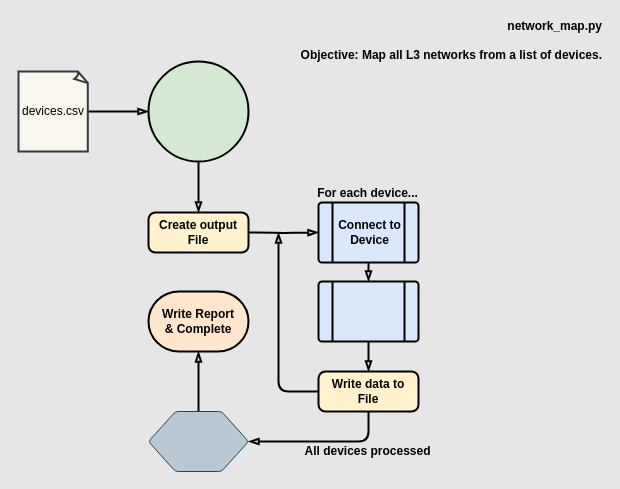
Image size: 620x489. Some labels were removed from this diagram. The centre of each missing label's shape, as x and y in pixels:
"Collect Data" belongs at point 368,311.
"Create Report" belongs at point 198,441.
"network_map.py" belongs at point 198,111.
